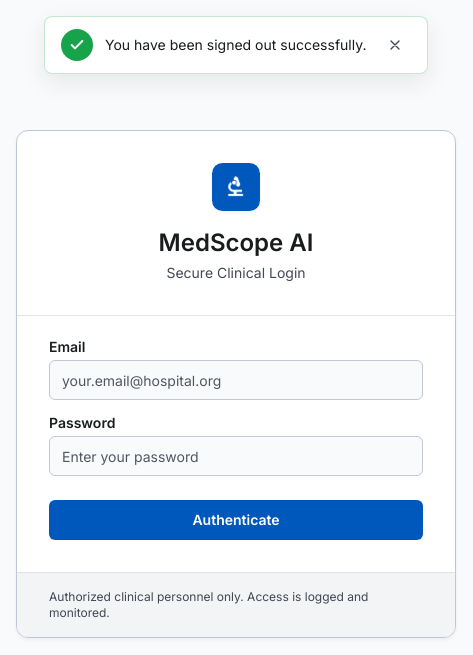
LoginPage logout feedback › allows manual dismissal of the logout toast
The image size is (473, 655).
Click the button named "dismiss notification" at (395,45), box [379,29,411,61]
Wait 300 ms
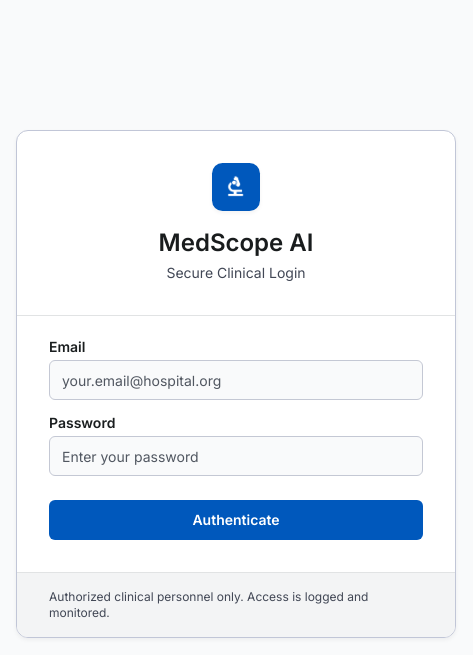
Expected: the text "signed out successfully" is gone
